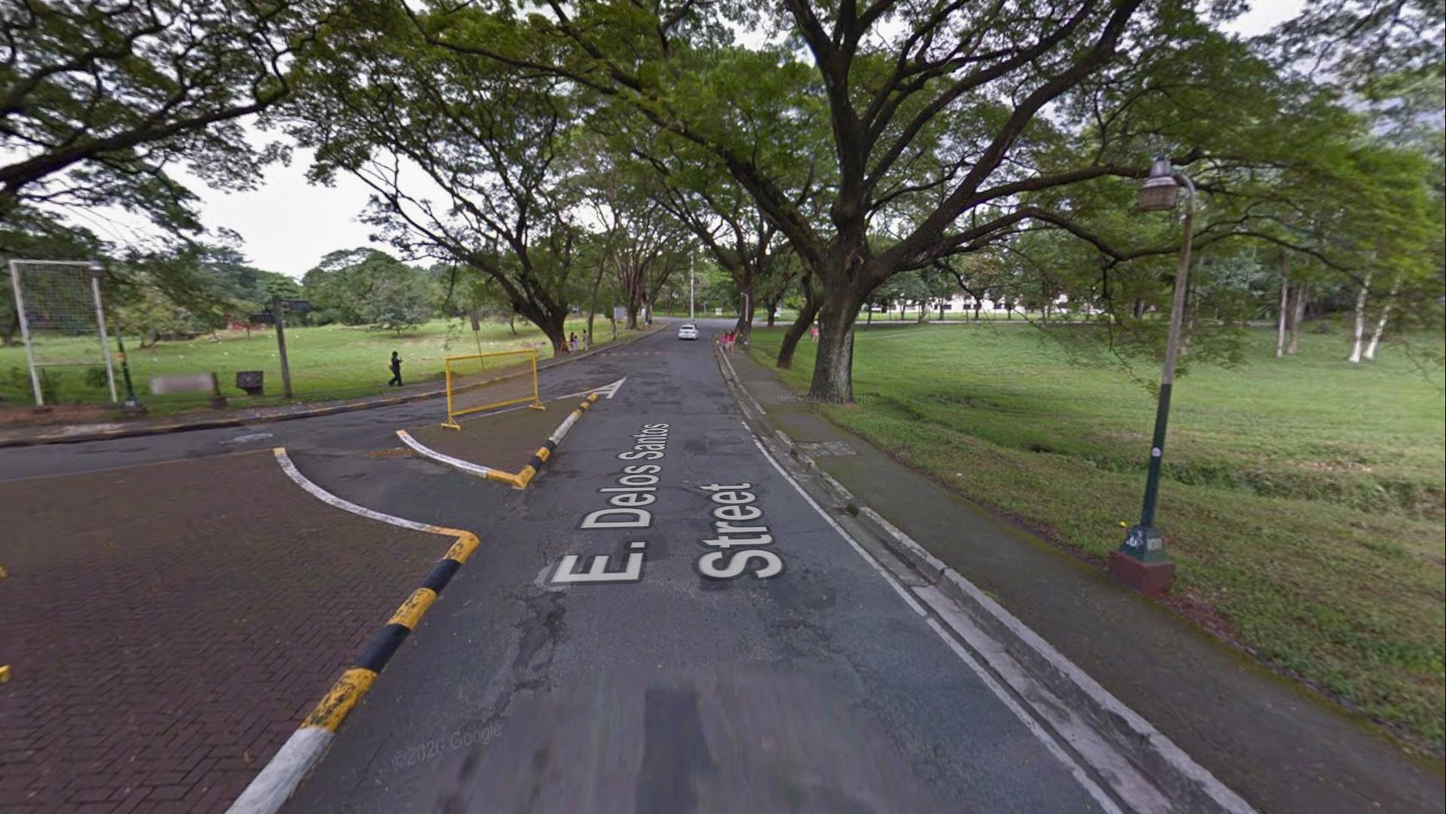pedestrian: (388, 349, 405, 387), (581, 329, 589, 353), (567, 330, 575, 353), (727, 329, 734, 353), (720, 330, 727, 353), (573, 335, 580, 351), (813, 325, 819, 341), (691, 318, 697, 333), (644, 317, 649, 331), (811, 325, 815, 339), (648, 316, 652, 330)
